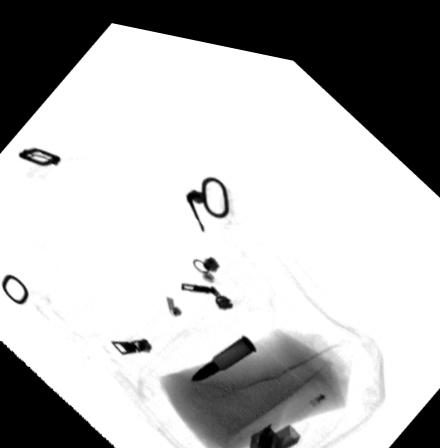Bullet: (188, 322, 257, 376)
